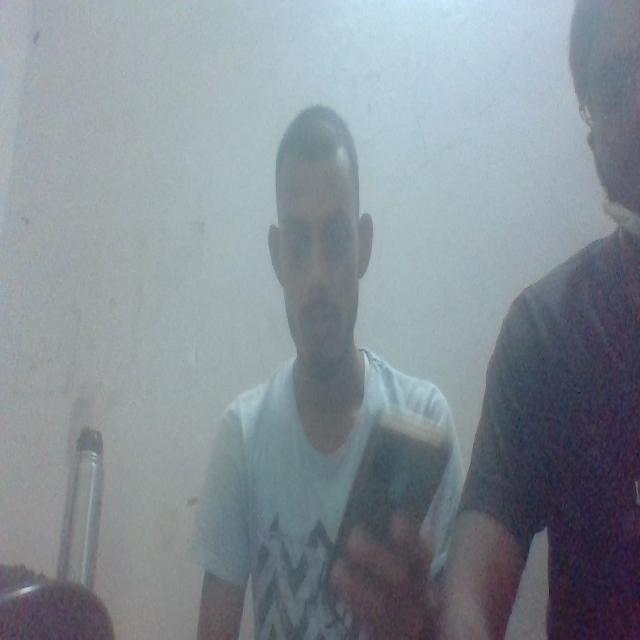Phone: (331, 416, 453, 604)
